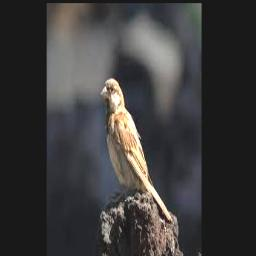Sparrow: (100, 77, 172, 223)
